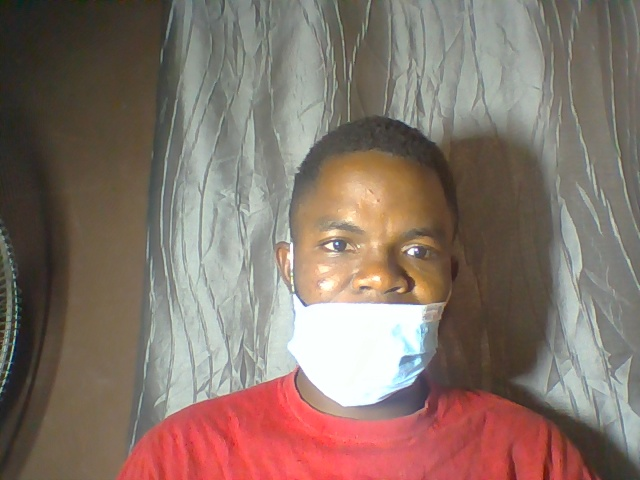MaskOff: (272, 117, 481, 410)
